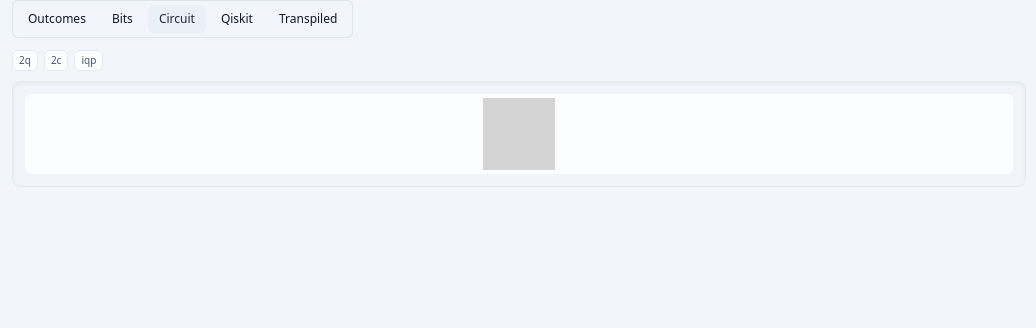
Test: MeasurementOutcomesPanel › falls back to stored QASM when a transpiled preview has no SVG
Click the button "Transpiled".
click(308, 19)  # box [268, 5, 348, 33]
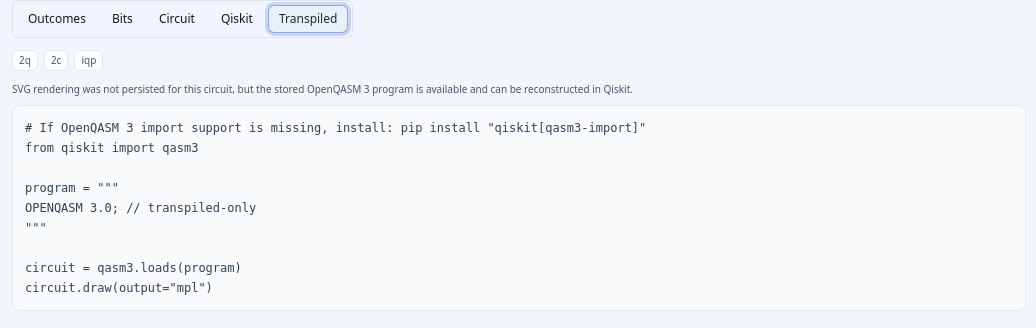
expect the text "SVG rendering was not persisted for this circuit" is shown: met, box [12, 82, 633, 96]
expect the text "OPENQASM 3.0; // transpiled-only" is shown: met, box [25, 121, 646, 295]
